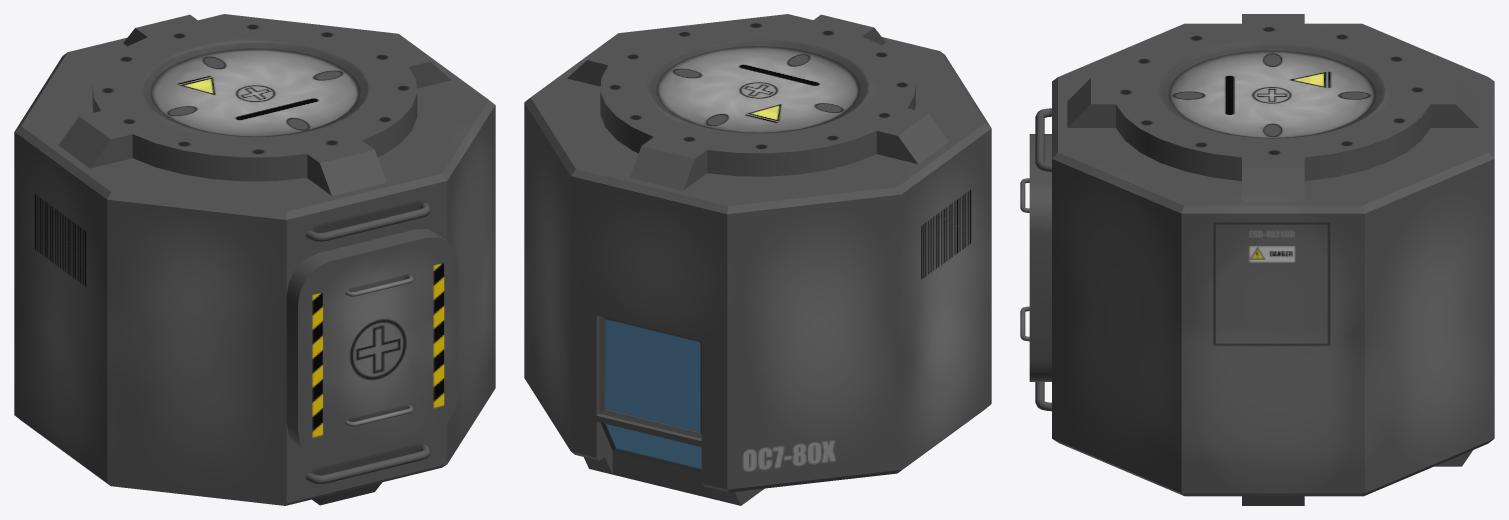
File: ksp_-_mk1_lander_can_fan-art_low-poly.glb
3 renders of one model, left to right at view 1: azimuth 30°, elevation 25°; view 2: azimuth 150°, elevation 25°; view 3: azimuth 270°, elevation 25°, orthographic. The views are drawn at different scales.
Visible parts, largest first — view 1: MK1 Lander Can; view 2: MK1 Lander Can; view 3: MK1 Lander Can.
Part boxes in pixels (left/top/right/bottom): MK1 Lander Can: left=14, top=14, right=495, bottom=505; MK1 Lander Can: left=524, top=14, right=991, bottom=505; MK1 Lander Can: left=1020, top=14, right=1494, bottom=505.
Size of the model in its own units: 185 by 156 by 198.
1 material, 1 textured.
